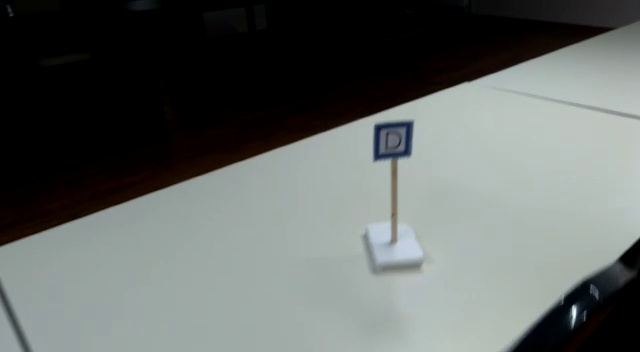durak: (374, 120, 412, 160)
